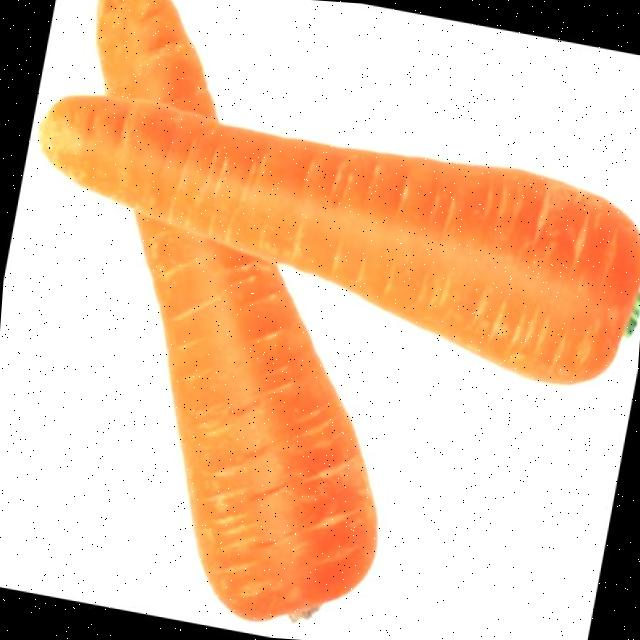carrot: (96, 0, 374, 619), (40, 95, 640, 381)
